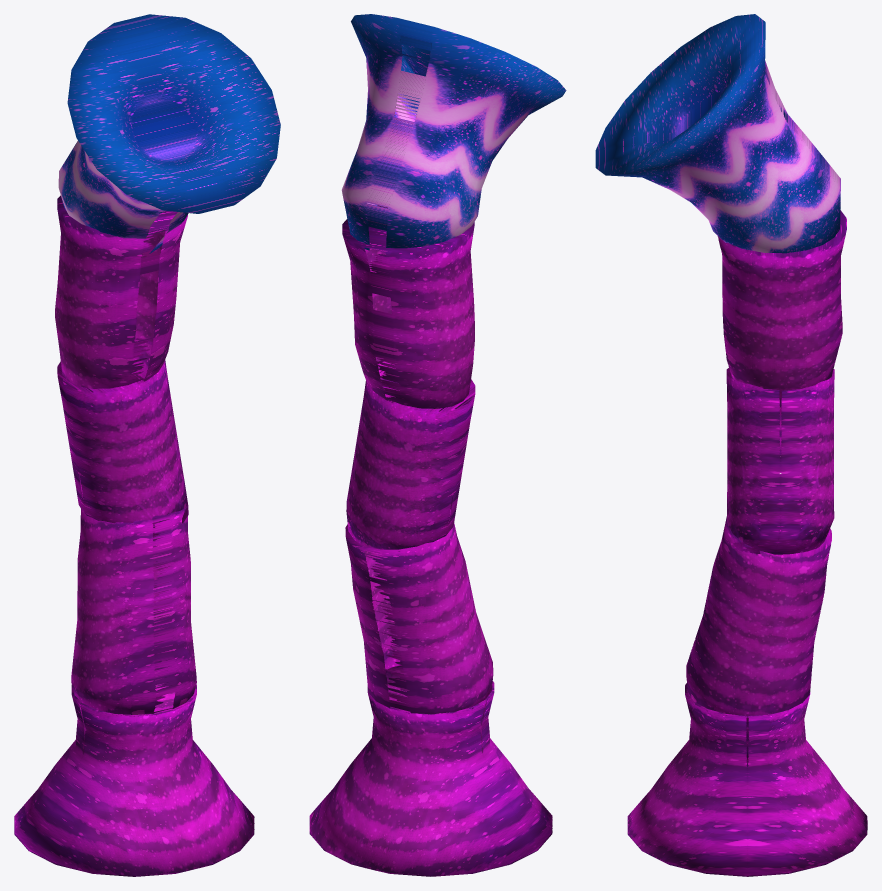
File: Space-Palmtree.FBX
3 views of the same model, side by side, from view 1: azimuth 30°, elevation 25°; view 2: azimuth 150°, elevation 25°; view 3: azimuth 270°, elevation 25° (orthographic).
Visible parts, largest first — view 1: Cylinder001, Object001; view 2: Cylinder001, Object001; view 3: Cylinder001, Object001.
Boxes of the visible parts, x1,y1,x2,y2 form: Cylinder001: (14, 195, 254, 876); Object001: (58, 14, 280, 253); Cylinder001: (309, 205, 552, 876); Object001: (341, 14, 566, 251); Cylinder001: (627, 210, 867, 876); Object001: (595, 14, 840, 253).
Size of the model in its own units: 62.65 by 226 by 69.97.
